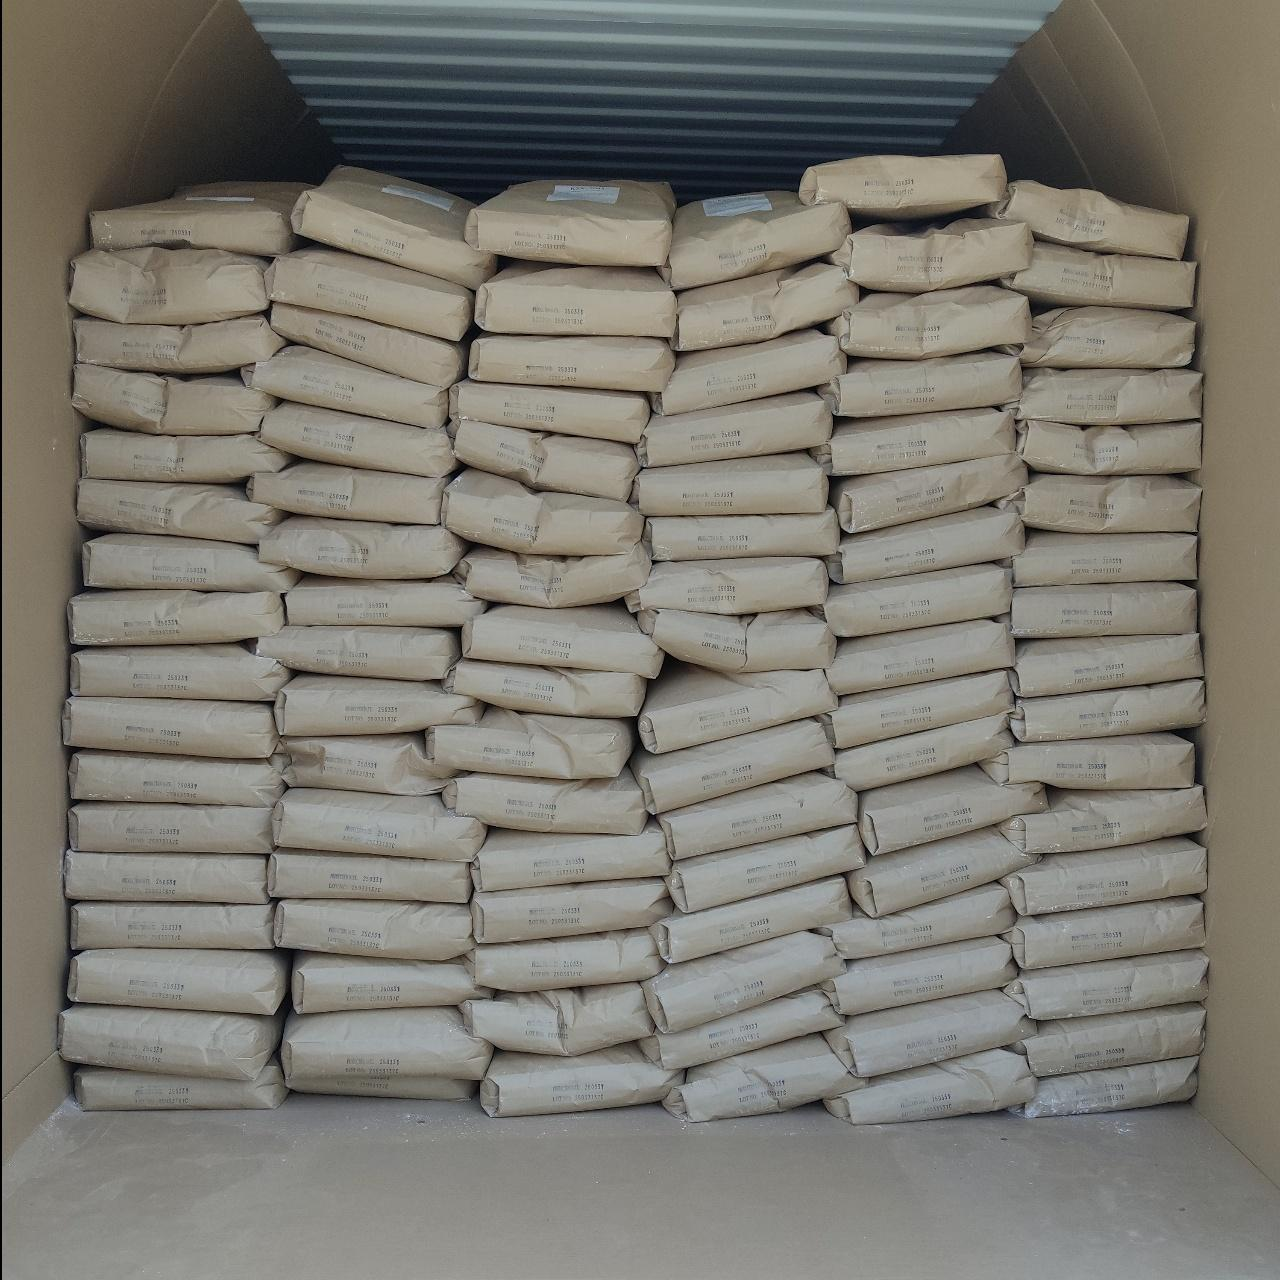sack: (292, 167, 496, 287), (643, 932, 843, 1032), (658, 191, 850, 291), (265, 247, 472, 339), (631, 719, 833, 813), (638, 658, 836, 753), (824, 990, 1034, 1077), (465, 180, 674, 266), (656, 772, 856, 860), (650, 876, 852, 963), (240, 345, 448, 429), (662, 1034, 861, 1121), (666, 825, 865, 912), (848, 826, 1038, 917), (859, 765, 1047, 855), (442, 469, 641, 554), (60, 1004, 281, 1080), (90, 182, 315, 256), (671, 262, 857, 351), (640, 988, 844, 1069), (650, 329, 846, 413), (270, 301, 466, 384), (1001, 837, 1205, 915), (824, 1049, 1038, 1123), (985, 180, 1187, 258), (272, 788, 487, 861), (281, 1007, 492, 1081), (448, 419, 638, 500), (822, 936, 1016, 1015), (70, 246, 269, 323), (830, 454, 1026, 532), (816, 670, 1012, 748), (479, 1042, 684, 1116), (827, 506, 1024, 583), (462, 603, 664, 678), (828, 284, 1030, 359), (828, 218, 1032, 292), (475, 264, 675, 338), (427, 707, 635, 778), (821, 883, 1015, 958), (441, 765, 648, 835), (1006, 1004, 1204, 1077), (260, 402, 454, 476), (999, 786, 1207, 855), (1001, 897, 1203, 968), (68, 949, 287, 1014), (636, 393, 831, 466), (72, 364, 275, 434), (1004, 950, 1207, 1019), (827, 620, 1013, 695), (810, 407, 1015, 475), (460, 983, 653, 1055), (836, 714, 1012, 791), (824, 565, 1011, 637), (77, 478, 284, 543), (799, 154, 1006, 219), (63, 696, 278, 758), (820, 351, 1021, 417), (471, 824, 668, 890), (1001, 242, 1195, 309), (259, 516, 467, 578), (470, 878, 670, 942), (84, 533, 300, 592), (276, 674, 481, 736), (247, 461, 448, 524), (72, 314, 286, 373), (464, 927, 660, 991), (449, 379, 647, 442), (631, 453, 828, 516), (638, 609, 834, 672), (292, 952, 493, 1013), (977, 732, 1194, 788), (69, 750, 285, 806), (274, 900, 475, 960), (71, 644, 293, 698), (998, 306, 1194, 367), (469, 333, 674, 391), (1016, 633, 1201, 697), (1010, 680, 1204, 741), (997, 475, 1201, 533), (455, 546, 648, 607), (68, 591, 284, 645), (445, 659, 646, 717), (1001, 367, 1202, 425), (624, 559, 828, 614), (81, 428, 291, 481), (277, 733, 456, 795), (75, 1059, 287, 1110), (1021, 1056, 1197, 1117), (1011, 529, 1196, 587), (253, 626, 459, 678), (69, 801, 274, 853), (64, 850, 269, 902), (643, 506, 839, 560), (285, 574, 483, 627), (1011, 583, 1196, 639), (268, 851, 471, 902), (70, 901, 276, 950), (1017, 420, 1200, 474), (287, 1072, 477, 1098)
